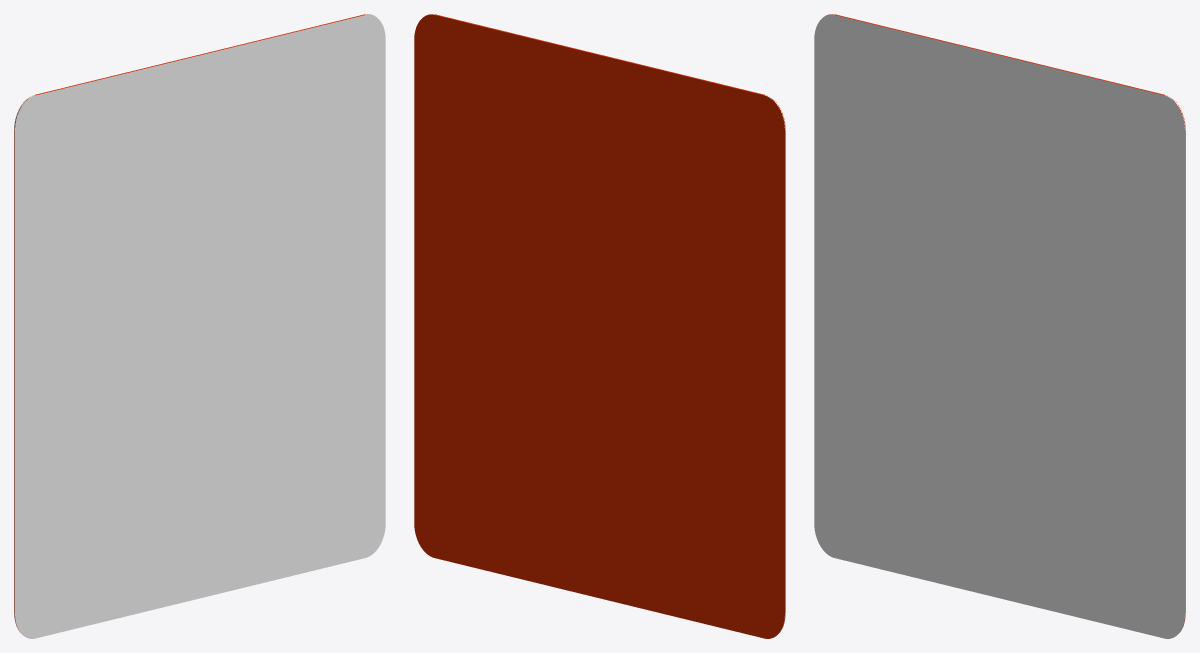
Rendered from CardVisual.fbx.
The picture shows the model from 3 angles, left to right: view 1: azimuth 30°, elevation 25°; view 2: azimuth 150°, elevation 25°; view 3: azimuth 330°, elevation 25°; orthographic projection.
Parts seen in each view (by area): view 1: Cube; view 2: Cube; view 3: Cube.
Boxes of the visible parts, bbox=[...] form: Cube: bbox=[14, 14, 385, 638]; Cube: bbox=[414, 14, 785, 638]; Cube: bbox=[814, 14, 1185, 638].
Bounding box in the file's own units: 500 × 700 × 2.
